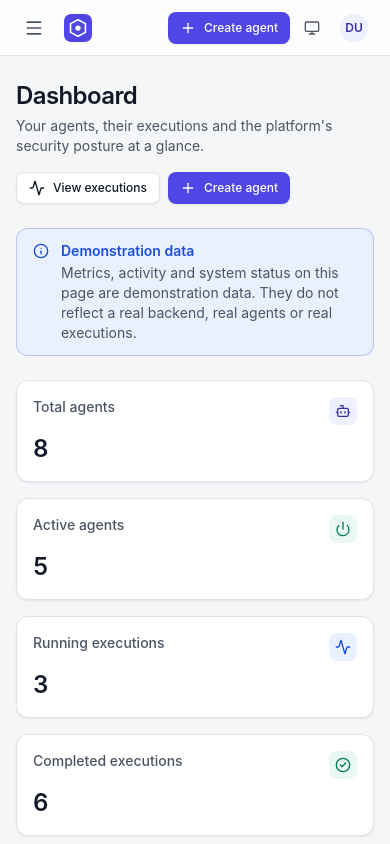
application shell › opens the mobile navigation drawer and closes it after navigating
expect the heading "Dashboard" is shown: met, box [16, 81, 137, 110]
What coordinates should you click on to do the following:
click the button named "Open navigation"
I would click on:
 (34, 28)
Its box is [16, 10, 52, 46].
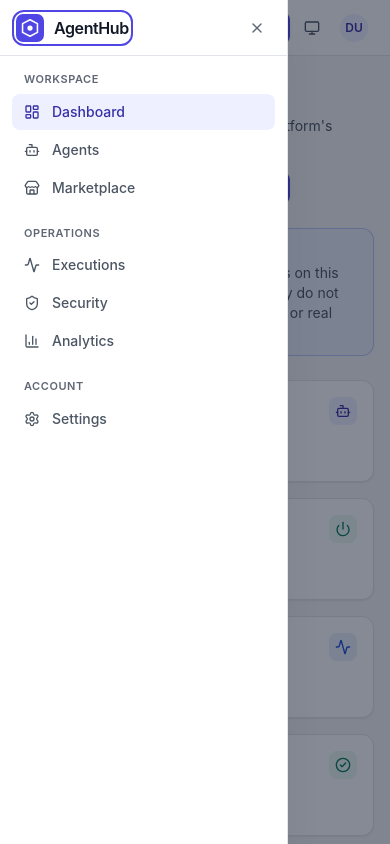
What coordinates should you click on to do the following:
click the link "Marketplace"
I would click on:
 (80, 187)
Its box is [24, 179, 135, 196].
(page scrolled)
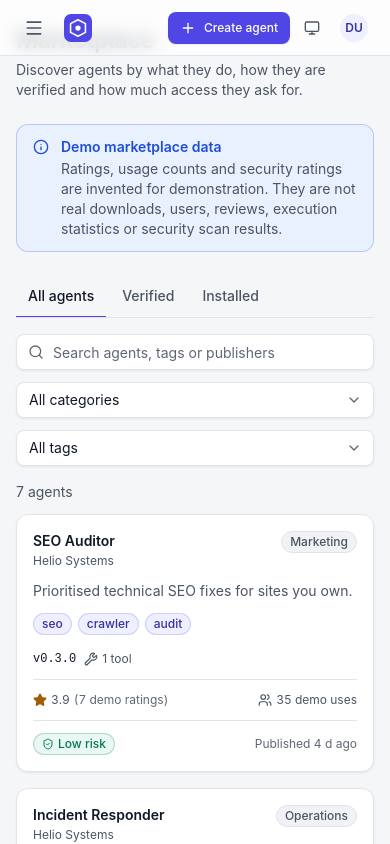
expect the heading "Marketplace" is shown: met, box [16, 25, 154, 54]
expect the button "Navigation" is gone: met
